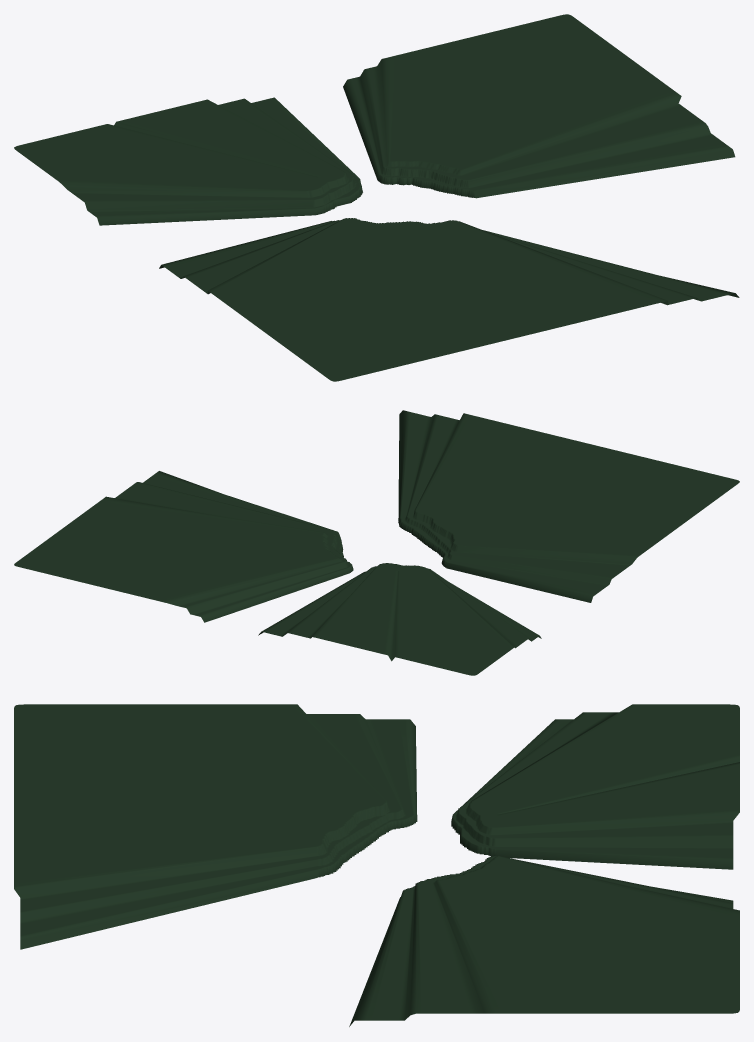
The model's file is Morro cenário.fbx.
3 renders of one model, top to bottom at view 1: azimuth 30°, elevation 25°; view 2: azimuth 150°, elevation 25°; view 3: azimuth 270°, elevation 25°, orthographic. The views are drawn at different scales.
Parts seen in each view (by area): view 1: Plane; view 2: Plane; view 3: Plane.
Part boxes in pixels (x1,y1,x2,y2): Plane: [14, 14, 739, 381]; Plane: [14, 410, 739, 675]; Plane: [14, 704, 739, 1026].
Size of the model in its own units: 23133 by 695 by 23133.
